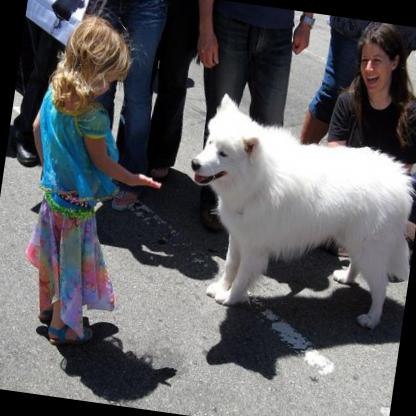Samoyed: (171, 86, 416, 332)
